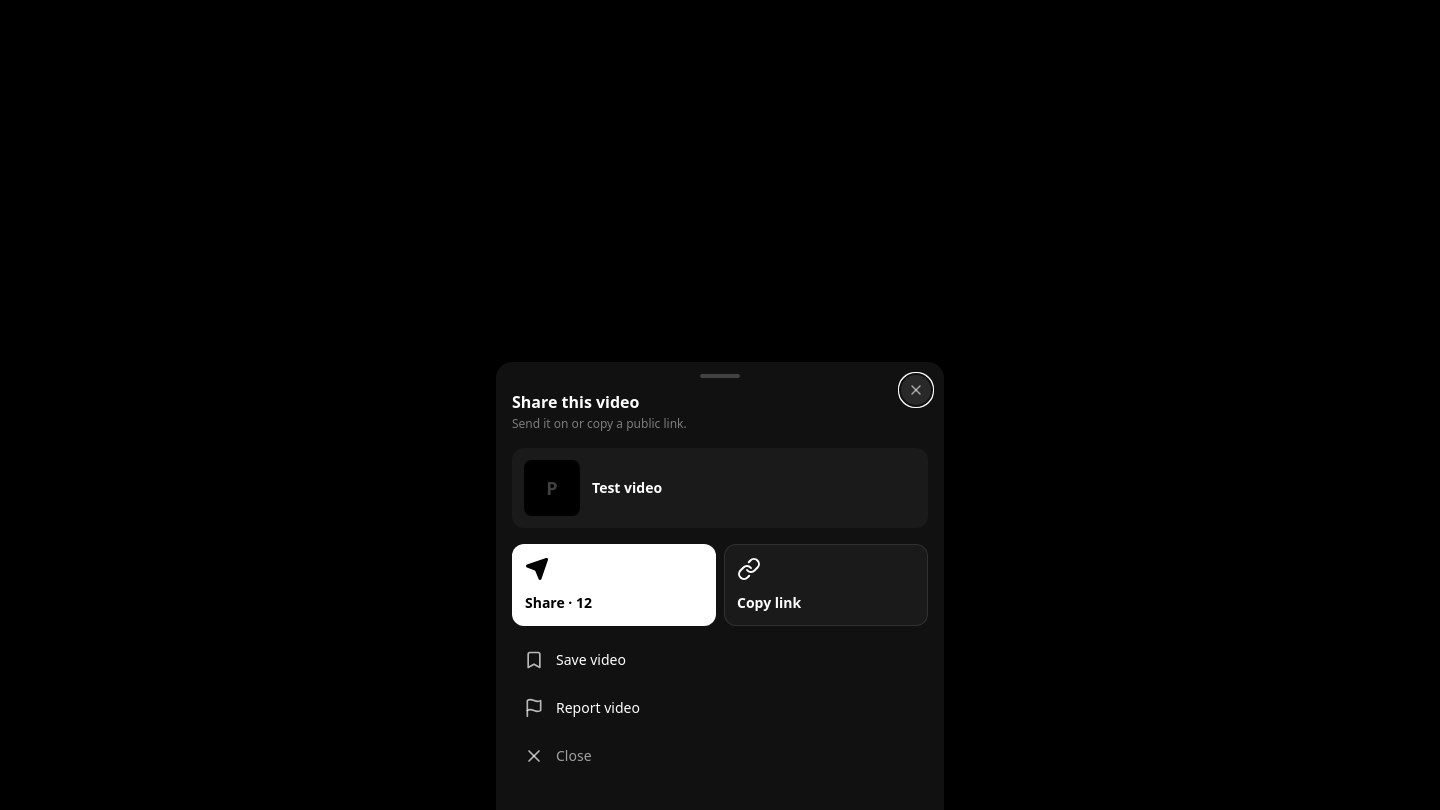
Test: VideoOptionsSheet report flow › lists report reasons after opening the report menu
The width and height of the screenshot is (1440, 810).
Step 1. Click the button "Report video" → (598, 708), box [512,686,928,730]
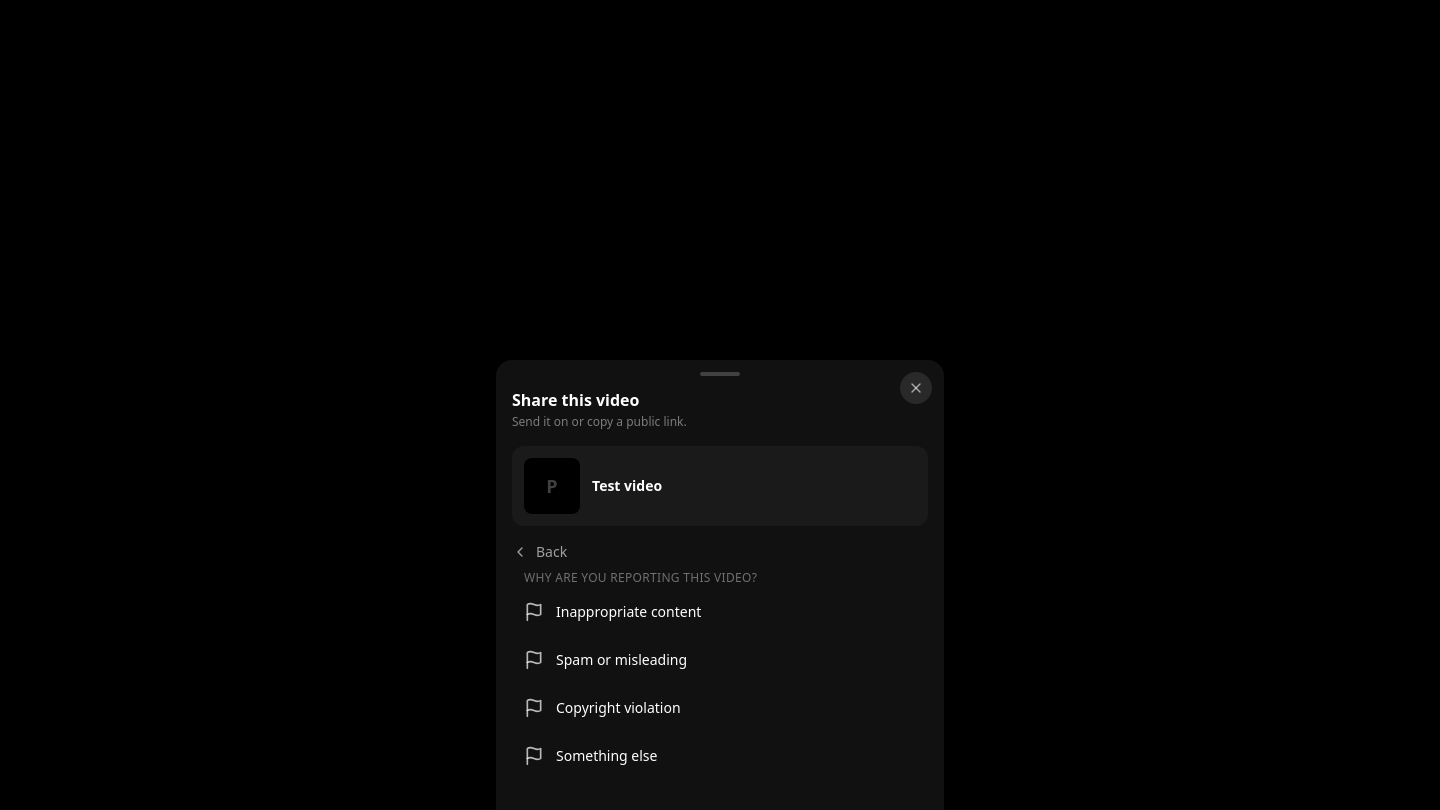
Expected: the text "Why are you reporting this video?" is shown, [524,569,757,586]
Expected: the text "Inappropriate content" is shown, [556,602,701,622]
Expected: the text "Copyright violation" is shown, [556,698,681,718]
